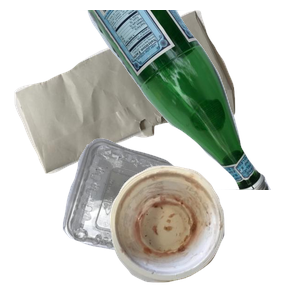glass: (75, 10, 300, 190)
paper: (12, 10, 240, 176)
plastic: (60, 136, 237, 300)
trash: (107, 163, 300, 300)
